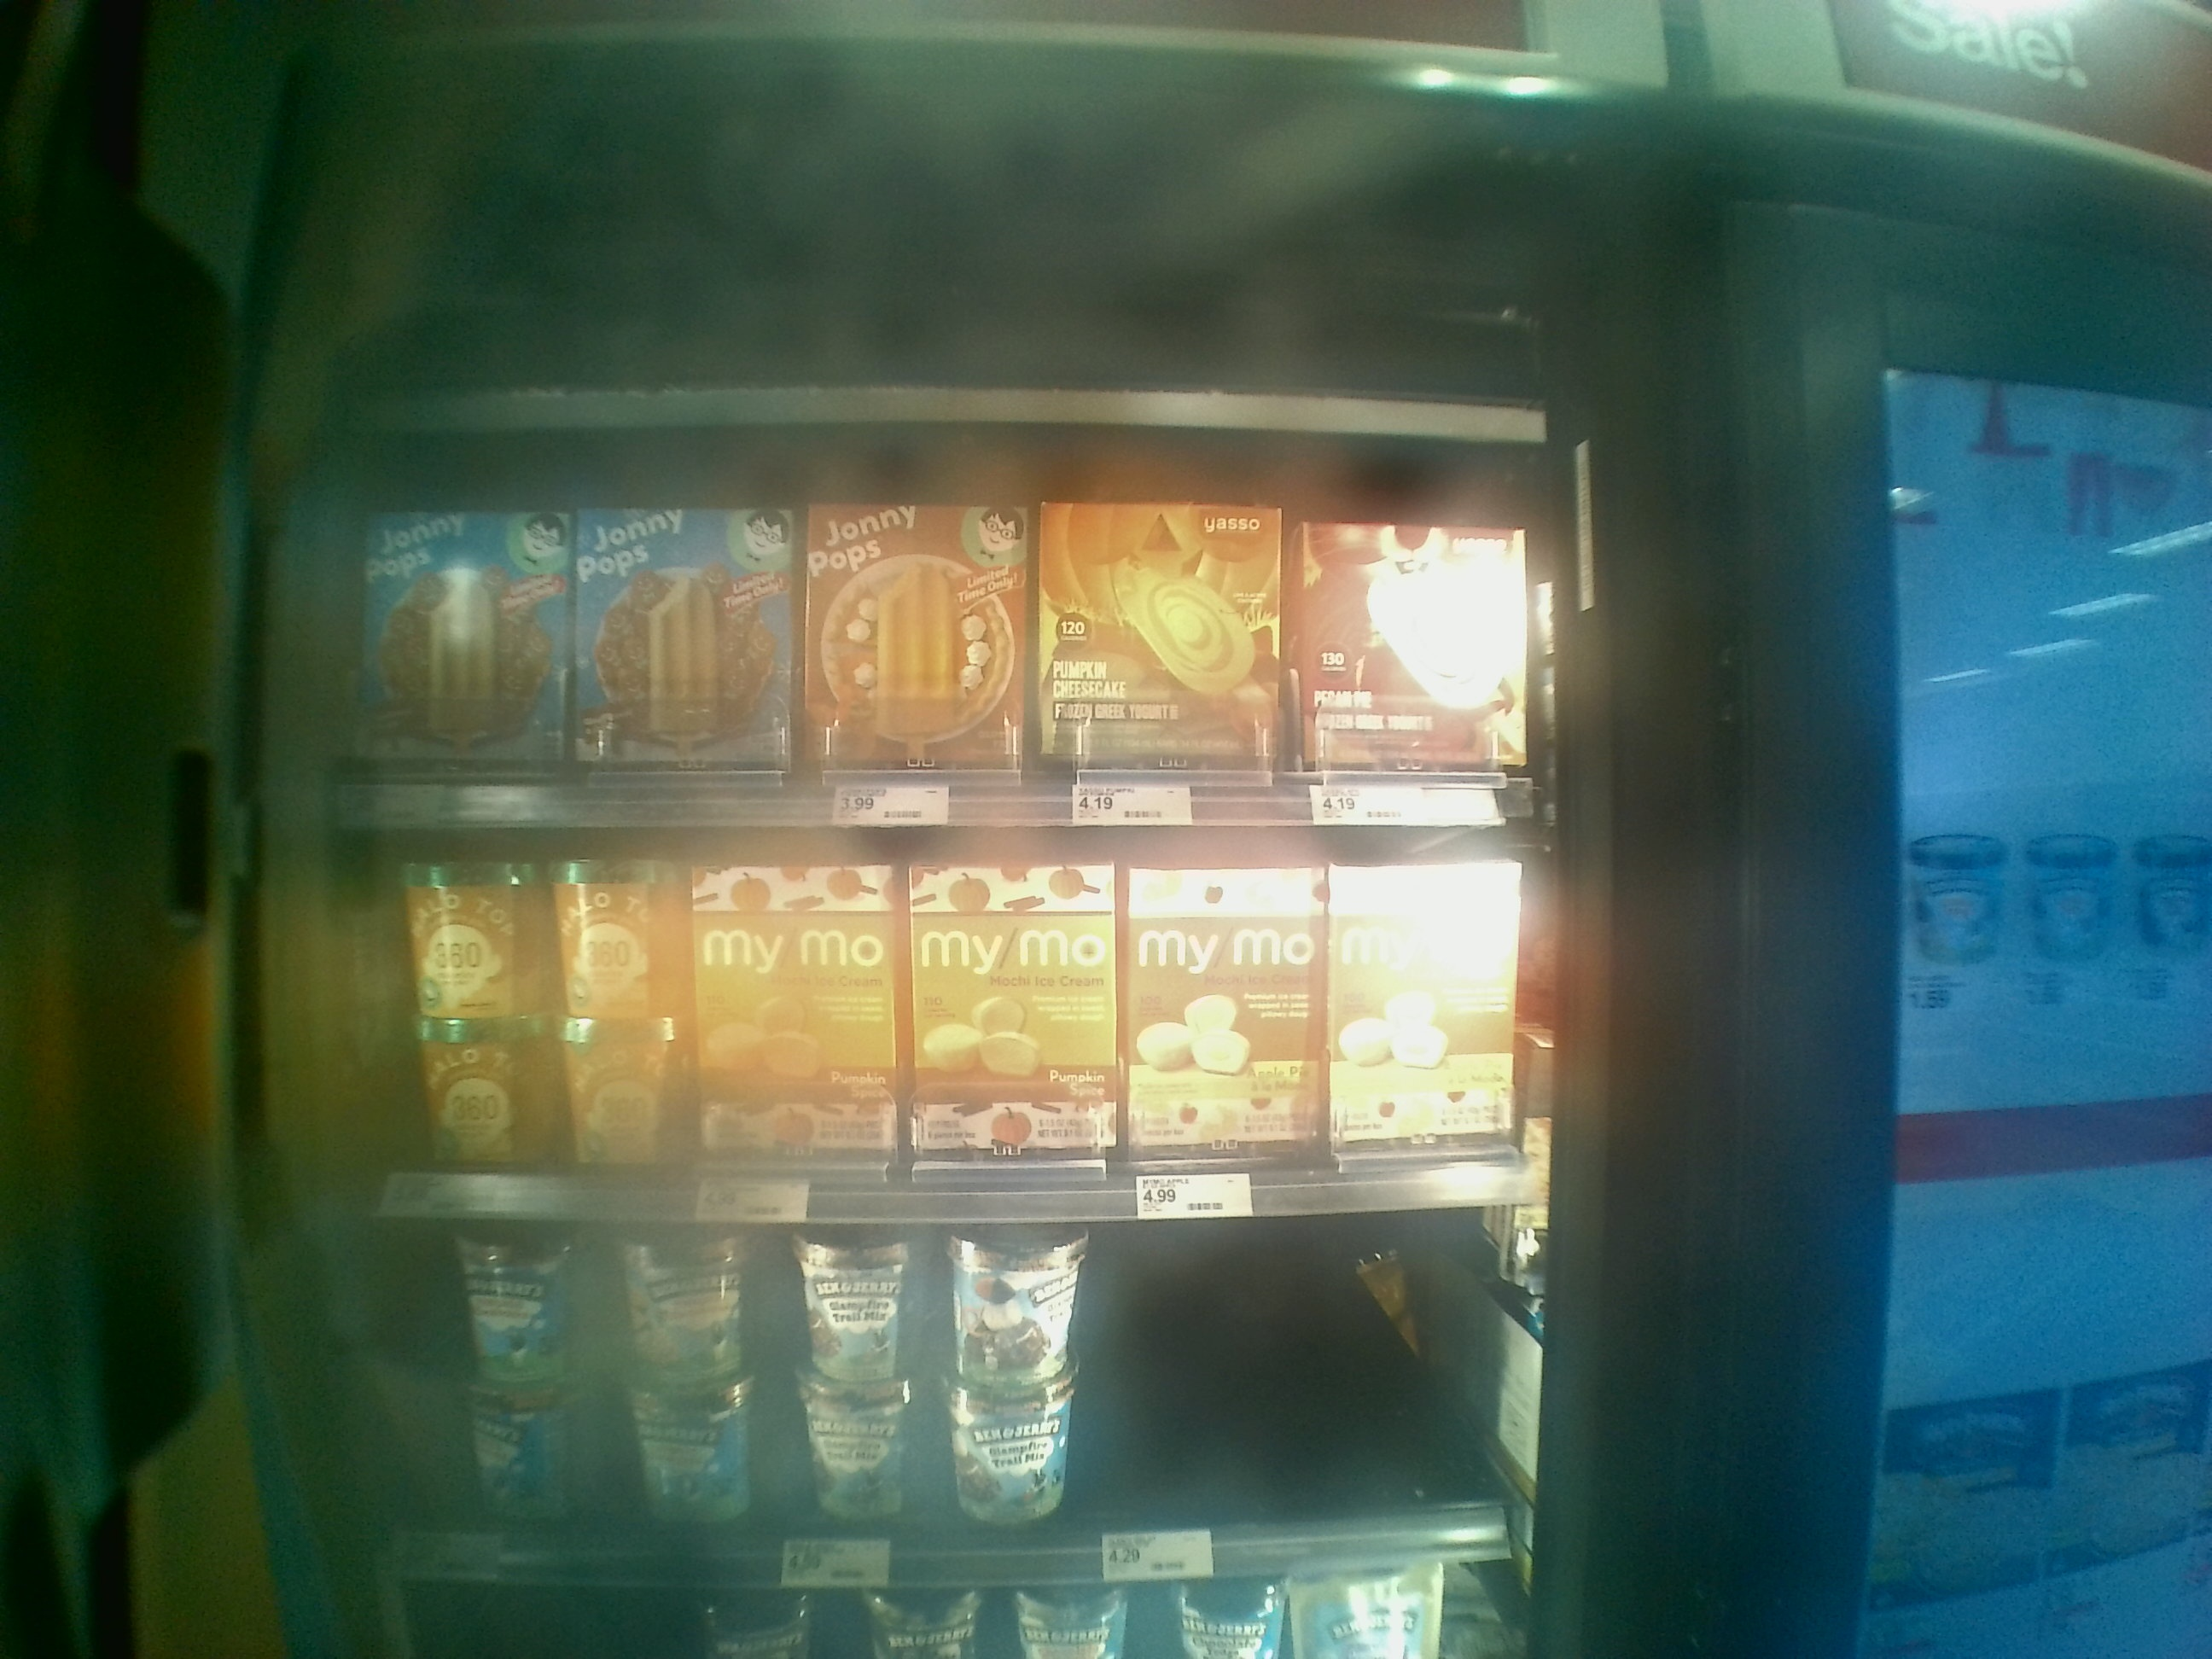shelf: (284, 399, 1575, 843), (254, 817, 1575, 1220), (254, 1201, 1541, 1575)
